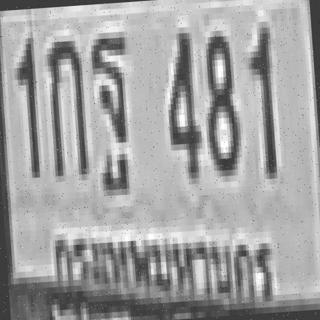A01: (43, 35, 87, 176)
A16: (87, 28, 133, 170)
N01: (246, 21, 277, 174), (12, 32, 40, 172)
N04: (161, 24, 200, 177)
N08: (199, 24, 240, 171)
P04: (47, 212, 284, 320)
